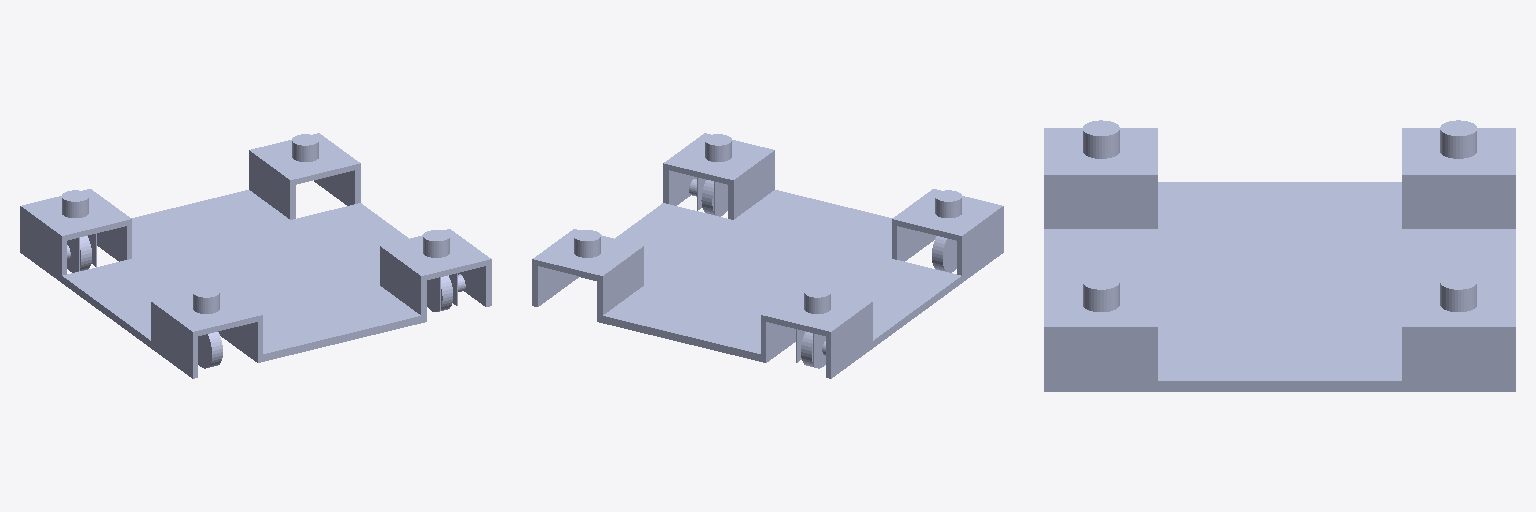
robot.urdf — N4:
<?xml version="1.0" encoding="utf-8"?>
<!-- This URDF was automatically created by SolidWorks to URDF Exporter! Originally created by Stephen Brawner (brawner@gmail.com) 
     Commit Version: 1.6.0-4-g7f85cfe  Build Version: 1.6.7995.38578
     For more information, please see http://wiki.ros.org/sw_urdf_exporter -->
<robot
  name="N4">
  <link
    name="body">
    <inertial>
      <origin
        xyz="0 0 0.0378841261362945"
        rpy="0 0 0" />
      <mass
        value="16.2401302143576" />
      <inertia
        ixx="1.00866947049631"
        ixy="0"
        ixz="0"
        iyy="1.02437247049631"
        iyz="0"
        izz="1.97949189323505" />
    </inertial>
    <visual>
      <origin
        xyz="0 0 0"
        rpy="0 0 0" />
      <geometry>
        <mesh
          filename="package://N4/meshes/body.STL" />
      </geometry>
      <material
        name="">
        <color
          rgba="0.792156862745098 0.819607843137255 0.933333333333333 1" />
      </material>
    </visual>
    <collision>
      <origin
        xyz="0 0 0"
        rpy="0 0 0" />
      <geometry>
        <mesh
          filename="package://N4/meshes/body.STL" />
      </geometry>
    </collision>
  </link>
  <link
    name="6020FL">
    <inertial>
      <origin
        xyz="0.0122555607739784 0 -0.0460182765859516"
        rpy="0 0 0" />
      <mass
        value="0.234446139501678" />
      <inertia
        ixx="0.000289619323760121"
        ixy="0"
        ixz="0"
        iyy="0.000289616691925895"
        iyz="0"
        izz="0.000281847941925895" />
    </inertial>
    <visual>
      <origin
        xyz="0 0 0"
        rpy="0 0 0" />
      <geometry>
        <mesh
          filename="package://N4/meshes/6020FL.STL" />
      </geometry>
      <material
        name="">
        <color
          rgba="0.792156862745098 0.819607843137255 0.933333333333333 1" />
      </material>
    </visual>
    <collision>
      <origin
        xyz="0 0 0"
        rpy="0 0 0" />
      <geometry>
        <mesh
          filename="package://N4/meshes/6020FL.STL" />
      </geometry>
    </collision>
  </link>
  <joint
    name="FL"
    type="continuous">
    <origin
      xyz="-0.32 0.315 0"
      rpy="-3.1416 0 3.1416" />
    <parent
      link="body" />
    <child
      link="6020FL" />
    <axis
      xyz="0 0 -1" />
    <limit
      effort="1.2"
      velocity="30" />
    <dynamics
      damping="0.05"
      friction="0.1" />
  </joint>
  <link
    name="3508FL">
    <inertial>
      <origin
        xyz="0 0 0"
        rpy="0 0 0" />
      <mass
        value="0.285099533313274" />
      <inertia
        ixx="0.000236988987066659"
        ixy="0"
        ixz="0"
        iyy="0.000236988987066659"
        iyz="0"
        izz="0.000431213044136327" />
    </inertial>
    <visual>
      <origin
        xyz="0 0 0"
        rpy="0 0 0" />
      <geometry>
        <mesh
          filename="package://N4/meshes/3508FL.STL" />
      </geometry>
      <material
        name="">
        <color
          rgba="0.792156862745098 0.819607843137255 0.933333333333333 1" />
      </material>
    </visual>
    <collision>
      <origin
        xyz="0 0 0"
        rpy="0 0 0" />
      <geometry>
        <mesh
          filename="package://N4/meshes/3508FL.STL" />
      </geometry>
    </collision>
  </link>
  <joint
    name="FLW"
    type="continuous">
    <origin
      xyz="0 0 -0.0279"
      rpy="-1.5708 0 1.5708" />
    <parent
      link="6020FL" />
    <child
      link="3508FL" />
    <axis
      xyz="0 0 1" />
    <limit
      effort="8"
      velocity="50" />
    <dynamics
      damping="0.02"
      friction="0.05" />
  </joint>
  <link
    name="6020FB">
    <inertial>
      <origin
        xyz="-0.0122555607739784 0 -0.0460182765859516"
        rpy="0 0 0" />
      <mass
        value="0.234446139501678" />
      <inertia
        ixx="0.000289619323760121"
        ixy="0"
        ixz="0"
        iyy="0.000289616691925895"
        iyz="0"
        izz="0.000281847941925895" />
    </inertial>
    <visual>
      <origin
        xyz="0 0 0"
        rpy="0 0 0" />
      <geometry>
        <mesh
          filename="package://N4/meshes/6020FB.STL" />
      </geometry>
      <material
        name="">
        <color
          rgba="0.792156862745098 0.819607843137255 0.933333333333333 1" />
      </material>
    </visual>
    <collision>
      <origin
        xyz="0 0 0"
        rpy="0 0 0" />
      <geometry>
        <mesh
          filename="package://N4/meshes/6020FB.STL" />
      </geometry>
    </collision>
  </link>
  <joint
    name="FB"
    type="continuous">
    <origin
      xyz="-0.32 -0.315 0"
      rpy="3.1416 0 0" />
    <parent
      link="body" />
    <child
      link="6020FB" />
    <axis
      xyz="0 0 -1" />
    <limit
      effort="1.2"
      velocity="30" />
    <dynamics
      damping="0.05"
      friction="0.1" />
  </joint>
  <link
    name="3508FB">
    <inertial>
      <origin
        xyz="0 0 0"
        rpy="0 0 0" />
      <mass
        value="0.285099533313274" />
      <inertia
        ixx="0.000236988987066659"
        ixy="0"
        ixz="0"
        iyy="0.000236988987066659"
        iyz="0"
        izz="0.000431213044136326" />
    </inertial>
    <visual>
      <origin
        xyz="0 0 0"
        rpy="0 0 0" />
      <geometry>
        <mesh
          filename="package://N4/meshes/3508FB.STL" />
      </geometry>
      <material
        name="">
        <color
          rgba="0.792156862745098 0.819607843137255 0.933333333333333 1" />
      </material>
    </visual>
    <collision>
      <origin
        xyz="0 0 0"
        rpy="0 0 0" />
      <geometry>
        <mesh
          filename="package://N4/meshes/3508FB.STL" />
      </geometry>
    </collision>
  </link>
  <joint
    name="FBW"
    type="continuous">
    <origin
      xyz="0 0 -0.0279"
      rpy="1.5708 0 1.5708" />
    <parent
      link="6020FB" />
    <child
      link="3508FB" />
    <axis
      xyz="0 0 1" />
    <limit
      effort="8"
      velocity="50" />
    <dynamics
      damping="0.02"
      friction="0.05" />
  </joint>
  <link
    name="6020RB">
    <inertial>
      <origin
        xyz="-0.0122555607739784 0 -0.0460182765859517"
        rpy="0 0 0" />
      <mass
        value="0.234446139501678" />
      <inertia
        ixx="0.000289619323760121"
        ixy="0"
        ixz="0"
        iyy="0.000289616691925895"
        iyz="0"
        izz="0.000281847941925895" />
    </inertial>
    <visual>
      <origin
        xyz="0 0 0"
        rpy="0 0 0" />
      <geometry>
        <mesh
          filename="package://N4/meshes/6020RB.STL" />
      </geometry>
      <material
        name="">
        <color
          rgba="0.792156862745098 0.819607843137255 0.933333333333333 1" />
      </material>
    </visual>
    <collision>
      <origin
        xyz="0 0 0"
        rpy="0 0 0" />
      <geometry>
        <mesh
          filename="package://N4/meshes/6020RB.STL" />
      </geometry>
    </collision>
  </link>
  <joint
    name="RB"
    type="continuous">
    <origin
      xyz="0.32 0.315 0"
      rpy="-3.1416 0 3.1416" />
    <parent
      link="body" />
    <child
      link="6020RB" />
    <axis
      xyz="0 0 -1" />
    <limit
      effort="1.2"
      velocity="30" />
    <dynamics
      damping="0.05"
      friction="0.1" />
  </joint>
  <link
    name="3508RB">
    <inertial>
      <origin
        xyz="0 0 0"
        rpy="0 0 0" />
      <mass
        value="0.285099533313274" />
      <inertia
        ixx="0.000236988987066659"
        ixy="0"
        ixz="0"
        iyy="0.000236988987066659"
        iyz="0"
        izz="0.000431213044136327" />
    </inertial>
    <visual>
      <origin
        xyz="0 0 0"
        rpy="0 0 0" />
      <geometry>
        <mesh
          filename="package://N4/meshes/3508RB.STL" />
      </geometry>
      <material
        name="">
        <color
          rgba="0.792156862745098 0.819607843137255 0.933333333333333 1" />
      </material>
    </visual>
    <collision>
      <origin
        xyz="0 0 0"
        rpy="0 0 0" />
      <geometry>
        <mesh
          filename="package://N4/meshes/3508RB.STL" />
      </geometry>
    </collision>
  </link>
  <joint
    name="RBW"
    type="continuous">
    <origin
      xyz="0 0 -0.0279"
      rpy="-1.5708 0 1.5708" />
    <parent
      link="6020RB" />
    <child
      link="3508RB" />
    <axis
      xyz="0 0 1" />
    <limit
      effort="8"
      velocity="50" />
    <dynamics
      damping="0.02"
      friction="0.05" />
  </joint>
  <link
    name="6020RL">
    <inertial>
      <origin
        xyz="0.0122555607739783 0 -0.0460182765859517"
        rpy="0 0 0" />
      <mass
        value="0.234446139501678" />
      <inertia
        ixx="0.000289619323760121"
        ixy="0"
        ixz="0"
        iyy="0.000289616691925895"
        iyz="0"
        izz="0.000281847941925895" />
    </inertial>
    <visual>
      <origin
        xyz="0 0 0"
        rpy="0 0 0" />
      <geometry>
        <mesh
          filename="package://N4/meshes/6020RL.STL" />
      </geometry>
      <material
        name="">
        <color
          rgba="0.792156862745098 0.819607843137255 0.933333333333333 1" />
      </material>
    </visual>
    <collision>
      <origin
        xyz="0 0 0"
        rpy="0 0 0" />
      <geometry>
        <mesh
          filename="package://N4/meshes/6020RL.STL" />
      </geometry>
    </collision>
  </link>
  <joint
    name="RL"
    type="continuous">
    <origin
      xyz="0.32 -0.315 0"
      rpy="3.1416 0 0" />
    <parent
      link="body" />
    <child
      link="6020RL" />
    <axis
      xyz="0 0 -1" />
    <limit
      effort="1.2"
      velocity="30" />
    <dynamics
      damping="0.05"
      friction="0.1" />
  </joint>
  <link
    name="3508RL">
    <inertial>
      <origin
        xyz="0 0 0"
        rpy="0 0 0" />
      <mass
        value="0.285099533313274" />
      <inertia
        ixx="0.000236988987066659"
        ixy="0"
        ixz="0"
        iyy="0.000236988987066659"
        iyz="0"
        izz="0.000431213044136327" />
    </inertial>
    <visual>
      <origin
        xyz="0 0 0"
        rpy="0 0 0" />
      <geometry>
        <mesh
          filename="package://N4/meshes/3508RL.STL" />
      </geometry>
      <material
        name="">
        <color
          rgba="0.792156862745098 0.819607843137255 0.933333333333333 1" />
      </material>
    </visual>
    <collision>
      <origin
        xyz="0 0 0"
        rpy="0 0 0" />
      <geometry>
        <mesh
          filename="package://N4/meshes/3508RL.STL" />
      </geometry>
    </collision>
  </link>
  <joint
    name="RLW"
    type="continuous">
    <origin
      xyz="0 0 -0.0279"
      rpy="1.5708 0 1.5708" />
    <parent
      link="6020RL" />
    <child
      link="3508RL" />
    <axis
      xyz="0 0 1" />
    <limit
      effort="8"
      velocity="50" />
    <dynamics
      damping="0.02"
      friction="0.05" />
  </joint>
</robot>

--- Render facts (derived) ---
The picture shows the robot from 3 angles, left to right: view 1: azimuth 30°, elevation 25°; view 2: azimuth 150°, elevation 25°; view 3: azimuth 270°, elevation 25°; orthographic projection.
Model N4 with 9 links and 8 joints (8 continuous), rooted at body, posed all joints at 0.
Links seen in each view (by area): view 1: body, 3508FB, 6020RL, 6020FL; view 2: body, 3508FB, 6020RL, 6020FL; view 3: body.
Link boxes in pixels (x1,y1,x2,y2): body: (20,133,491,378); 3508FB: (198,332,222,368); 6020RL: (427,273,465,310); 6020FL: (67,233,96,270); body: (532,133,1003,378); 3508FB: (932,236,956,272); 6020RL: (689,177,727,214); 6020FL: (796,329,825,366); body: (1044,120,1515,391).
Bounding box of the posed robot: 0.83 × 0.83 × 0.1959 m (x, y, z).
Meshes: 9 distinct files referenced, 6 mesh visuals loaded (6 binary STL); not drawn: 3 (reference not matched to a file when rendering).
